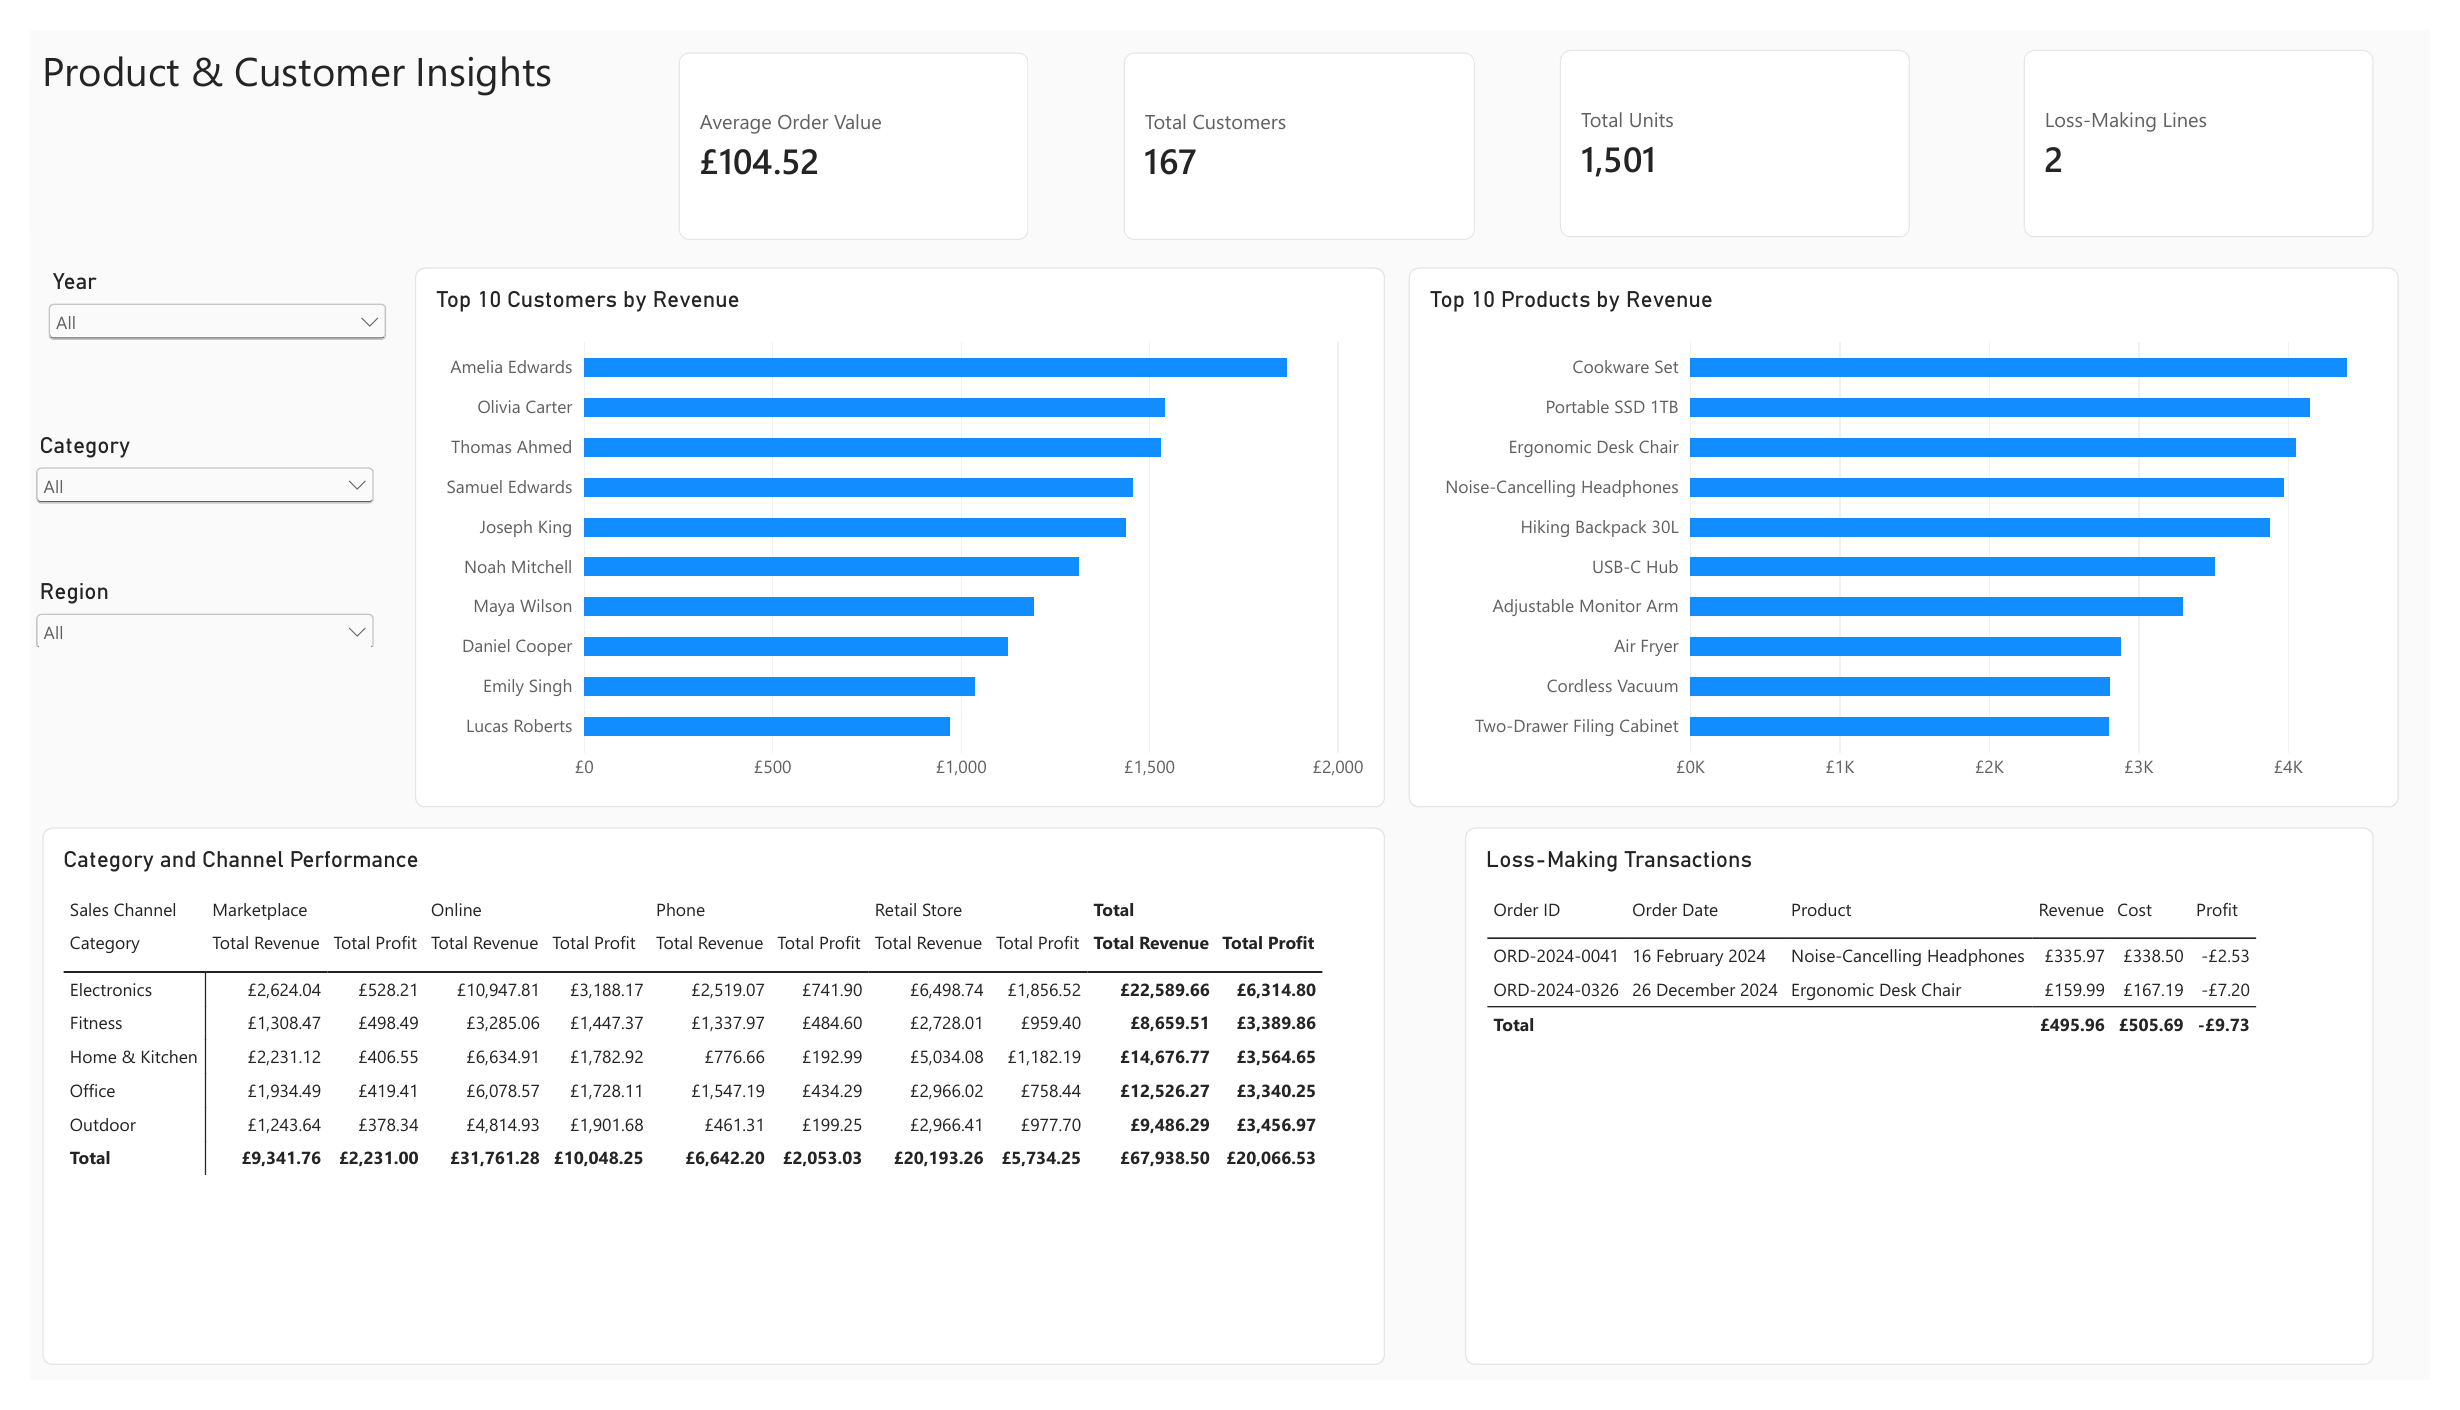

Layout of this report page (visuals, bound fields, positions):
{"tool":"powerbi","page":{"name":"Product & Customer Insights","canvas":[1920,1080],"ordinal":1},"visuals":[{"type":"slicer","fields":{"Values":["Calendar.Year"]},"box":[10.2,191.1,280.1,105],"z":0},{"type":"slicer","fields":{"Values":["Retail Sales.category"]},"box":[0,322.4,280.1,87.5],"z":1000},{"type":"slicer","fields":{"Values":["Retail Sales.region"]},"box":[0,439.1,280.1,54],"z":2000},{"type":"clusteredBarChart","title":"Top 10 Products by Revenue","fields":{"Category":["Retail Sales.product"],"Y":["Retail Sales.Total Revenue"]},"box":[1103,189.7,792.2,431.9],"z":3000},{"type":"clusteredBarChart","title":"Top 10 Customers by Revenue","fields":{"Category":["Retail Sales.customer_name"],"Y":["Retail Sales.Total Revenue"]},"box":[307.8,189.7,776.2,431.9],"z":4000},{"type":"textbox","box":[10.2,10.2,417.3,75.9],"z":5000},{"type":"cardVisual","fields":{"Data":["Retail Sales.Average Order Value"]},"box":[519.4,17.5,280,150],"z":6000},{"type":"cardVisual","fields":{"Data":["Retail Sales.Total Customers"]},"box":[875.4,17.5,280.1,150.3],"z":7000},{"type":"cardVisual","fields":{"Data":["Retail Sales.Total Units Card"]},"box":[1224.1,16,280.1,150.3],"z":8000},{"type":"cardVisual","fields":{"Data":["Retail Sales.Loss-Making Lines"]},"box":[1594.7,16,280.1,150.3],"z":9000},{"type":"pivotTable","title":"Category and Channel Performance","fields":{"Columns":["Retail Sales.sales_channel"],"Rows":["Retail Sales.category"],"Values":["Retail Sales.Total Revenue","Retail Sales.Total Profit"]},"box":[10.2,637.6,1073.8,430.4],"z":9001},{"type":"tableEx","title":"Loss-Making Transactions","fields":{"Values":["Retail Sales.order_id","Retail Sales.order_date","Retail Sales.product","Sum(Retail Sales.revenue)","Sum(Retail Sales.cost)","Sum(Retail Sales.profit)"]},"box":[1148.2,637.6,726.6,430.4],"z":9002}]}

Visuals, with their boxes in screenshot pixels (x1, y1, x2, y2), scaled from the page's 1920x1080 canvas onto the 2460x1410 screenshot:
slicer - Calendar.Year: select_region(13, 249, 372, 387)
slicer - Retail Sales.category: select_region(0, 421, 359, 535)
slicer - Retail Sales.region: select_region(0, 573, 359, 644)
"Top 10 Products by Revenue" clusteredBarChart: select_region(1413, 248, 2428, 812)
"Top 10 Customers by Revenue" clusteredBarChart: select_region(394, 248, 1389, 812)
textbox: select_region(13, 13, 548, 112)
cardVisual - Retail Sales.Average Order Value: select_region(665, 23, 1024, 219)
cardVisual - Retail Sales.Total Customers: select_region(1122, 23, 1480, 219)
cardVisual - Retail Sales.Total Units Card: select_region(1568, 21, 1927, 217)
cardVisual - Retail Sales.Loss-Making Lines: select_region(2043, 21, 2402, 217)
"Category and Channel Performance" pivotTable: select_region(13, 832, 1389, 1394)
"Loss-Making Transactions" tableEx: select_region(1471, 832, 2402, 1394)
